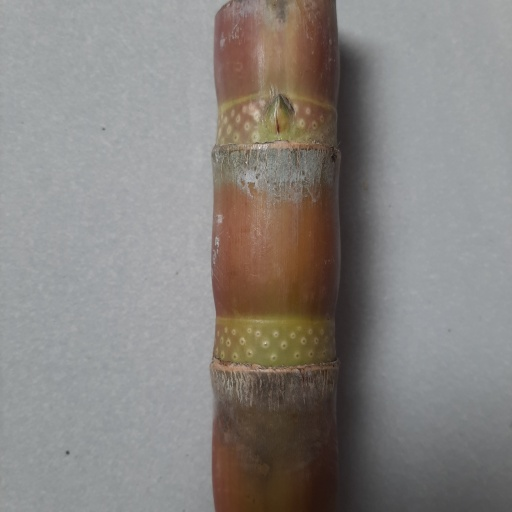Bud: (264, 94, 297, 138)
